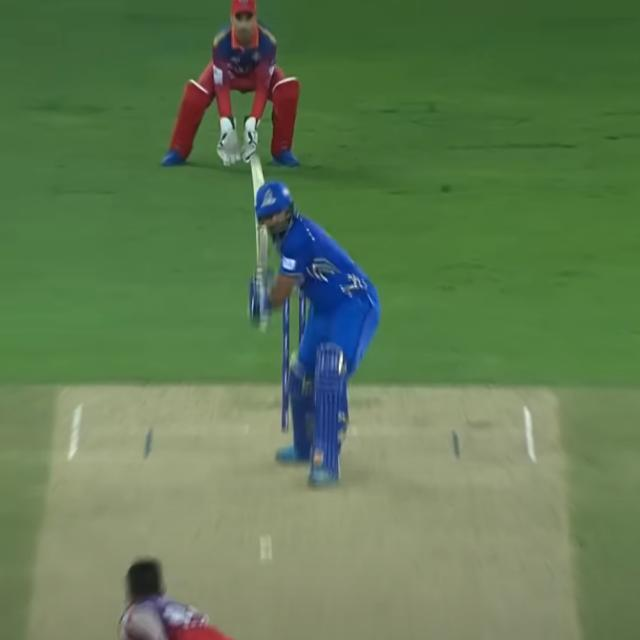bat: (250, 156, 264, 273)
toe: (247, 154, 262, 158)
